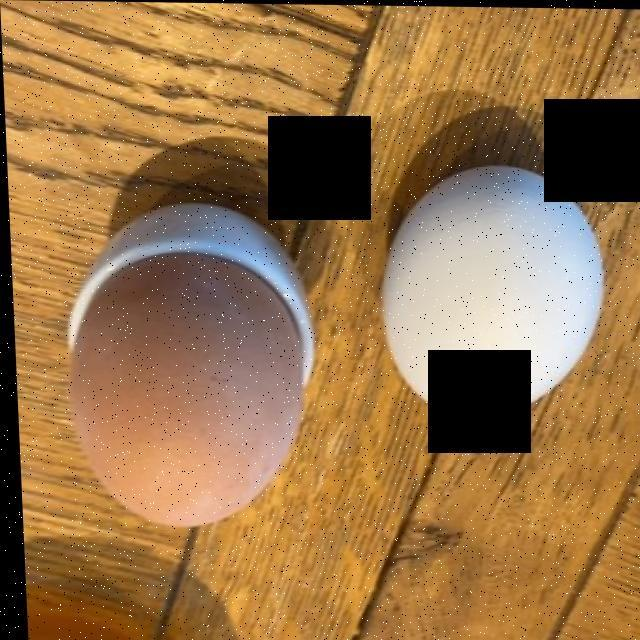egg: (48, 167, 621, 534)
